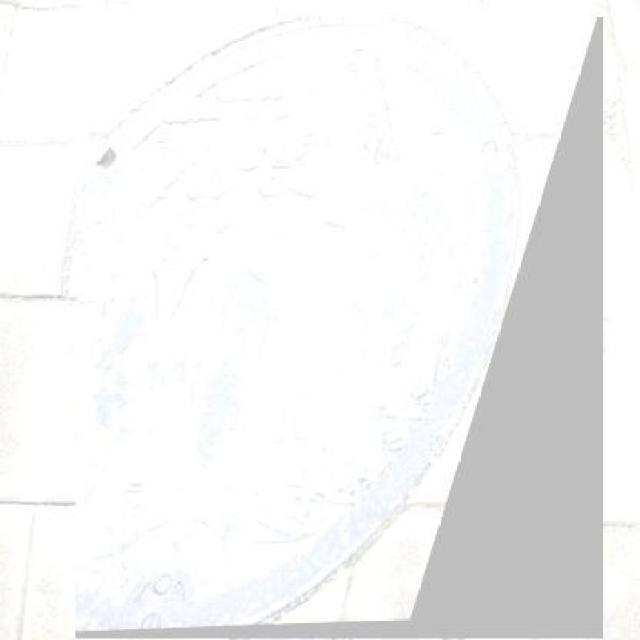Manhole: (75, 16, 603, 638)
